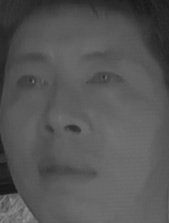eye: (83, 69, 125, 94), (14, 71, 50, 95)
mouth: (29, 152, 99, 193)
